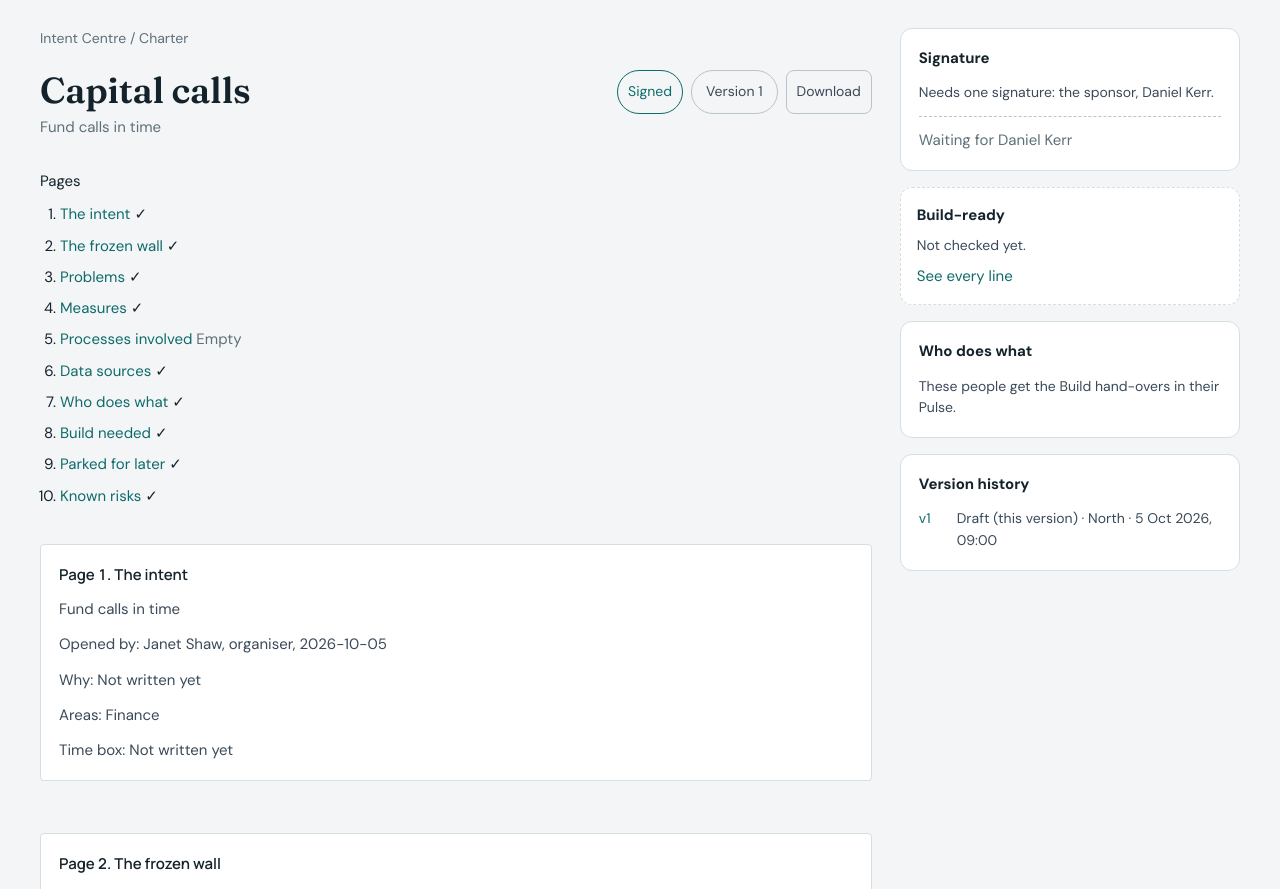
Test: charter › a refused download says so in plain words
This screenshot has width=1280, height=889.
Click the heading "Download" at (829, 92), box 786,70 -> 872,114
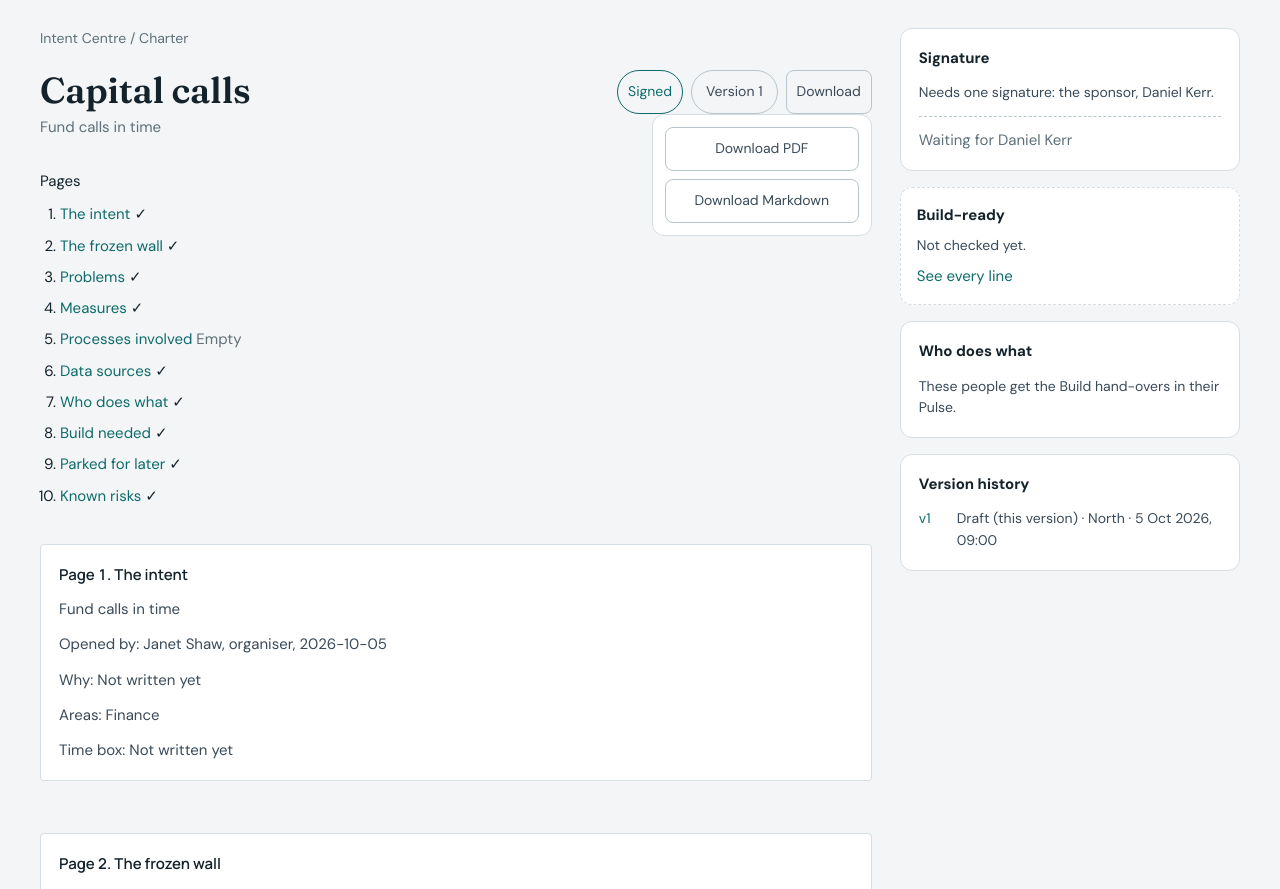
Click the button "Download Markdown" at (762, 201), box 665,179 -> 859,223
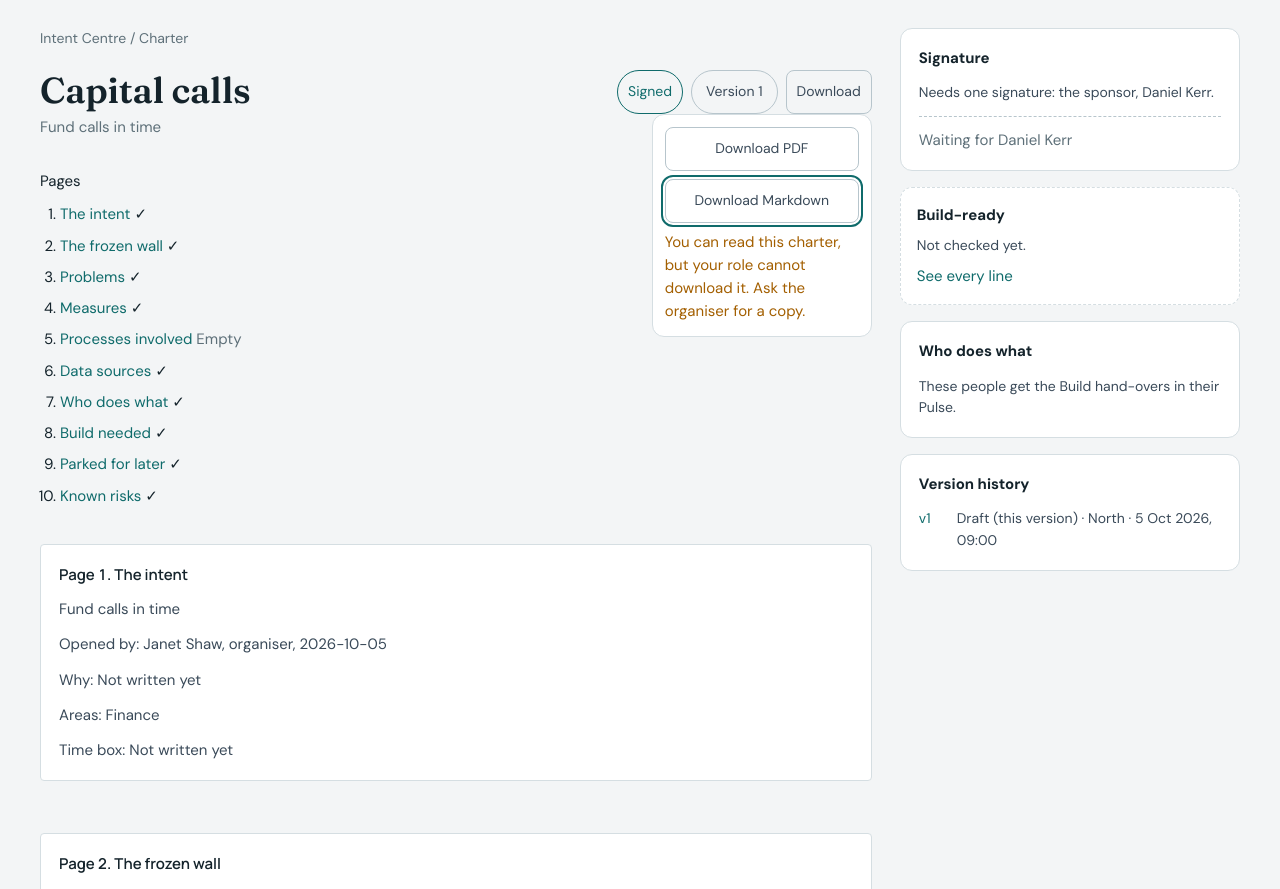
Check: the text "your role cannot download it" is shown, box 665,232 -> 841,322
